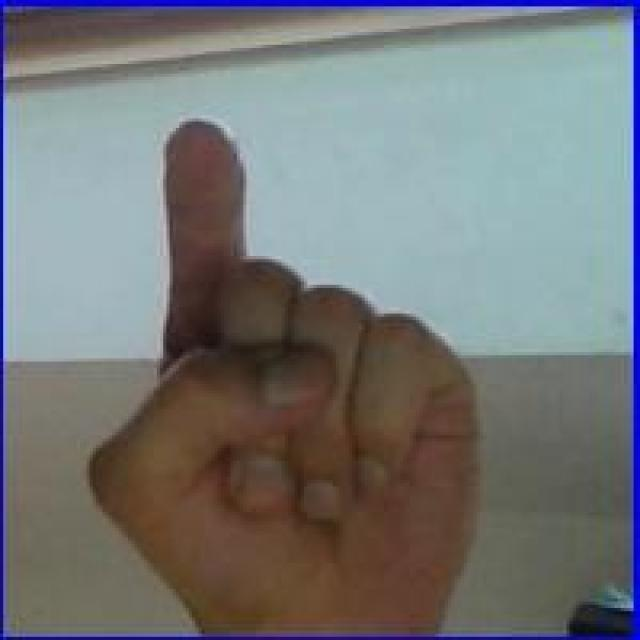X: (88, 117, 491, 635)
